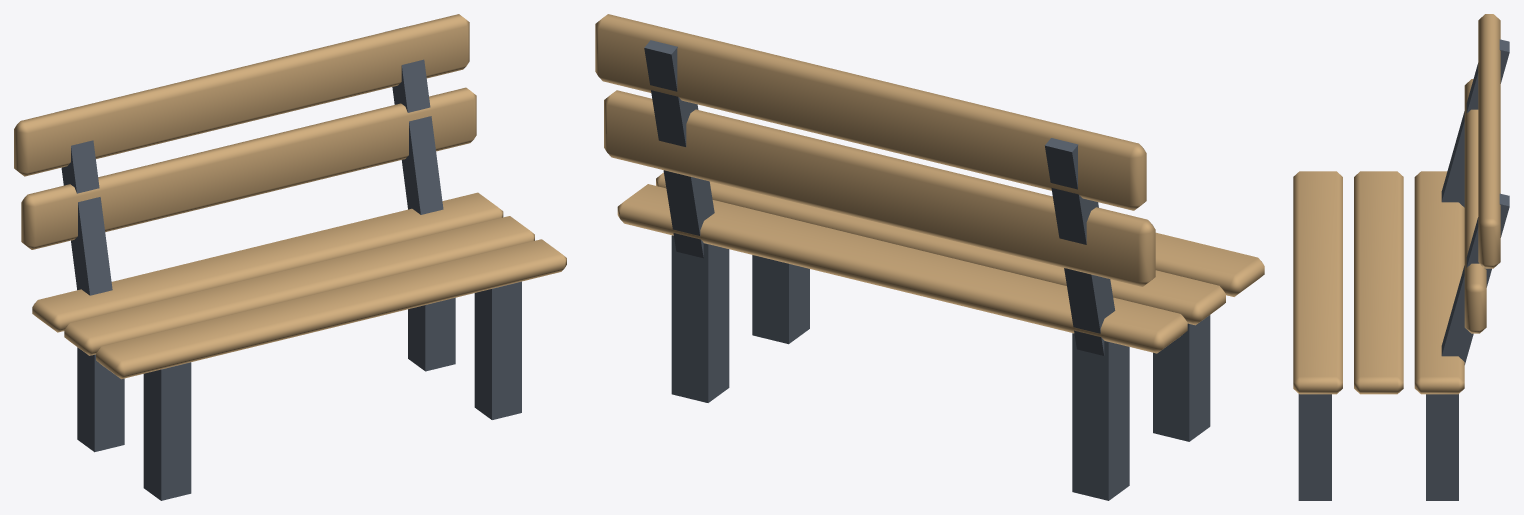
Rendered from bench.glb.
3 views of the same model, side by side, from view 1: azimuth 30°, elevation 25°; view 2: azimuth 150°, elevation 25°; view 3: azimuth 270°, elevation 25° (orthographic). The views are drawn at different scales.
Visible parts, largest first — view 1: bench_structure; view 2: bench_structure; view 3: bench_structure.
Boxes of the visible parts, x1,y1,x2,y2 form: bench_structure: [14, 14, 566, 500]; bench_structure: [595, 14, 1264, 500]; bench_structure: [1293, 14, 1509, 500].
Size of the model in its own units: 1.8 by 1.2 by 0.7836.
